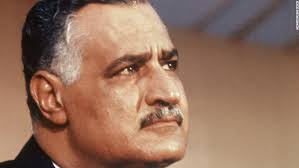middle_eastern_male: (40, 6, 191, 159)
